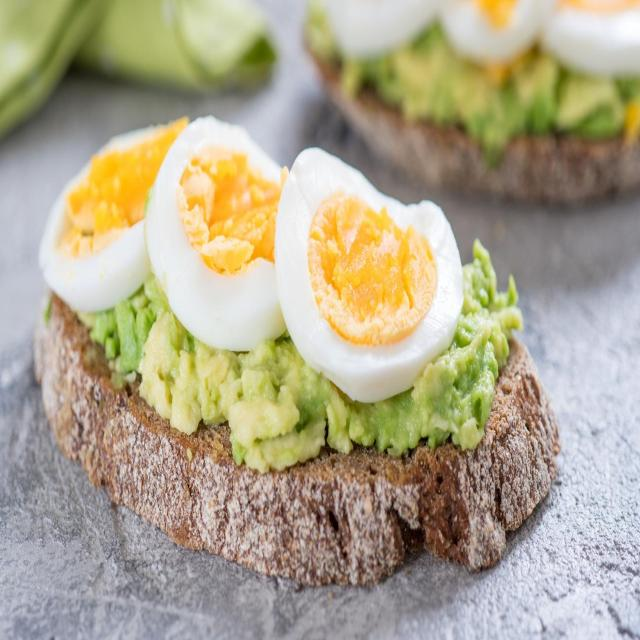huevos: (274, 139, 467, 410), (151, 104, 290, 348)
